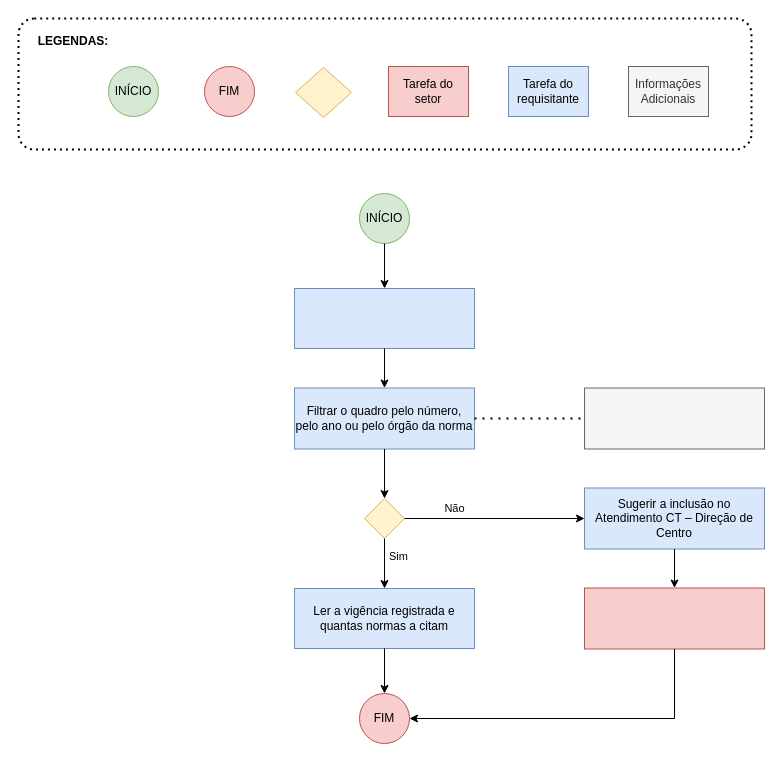
Some shapes in this 782 by 761 pixel diagram are drawn without their labels. Each missing label, with the box of its shape:
Abrir Fila no menu: (294, 288, 474, 348)
Direção do CT: conferir na fonte oficial e incluir na fila de coleta: (584, 587, 764, 649)
Encontrou a norma?: (364, 498, 404, 538)
Fora da fila: normas sem texto fora do escopo da coleta: (584, 387, 764, 449)
SE: (294, 66, 352, 118)
